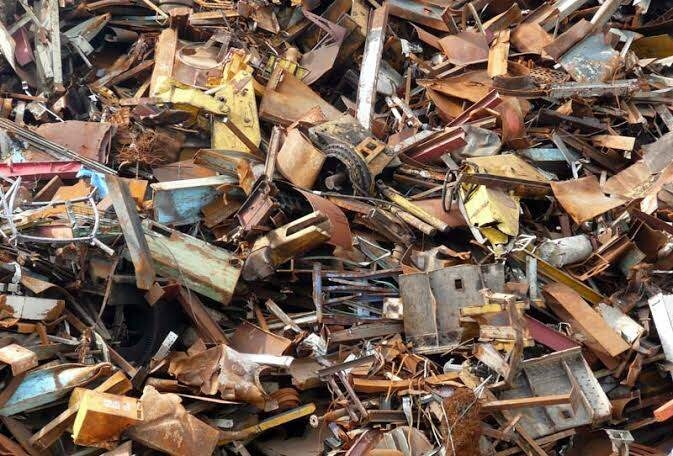metal: (388, 252, 527, 368), (109, 208, 252, 315), (84, 163, 177, 298), (159, 55, 268, 169), (535, 273, 642, 375), (390, 83, 507, 174), (233, 204, 340, 289), (343, 3, 398, 150), (431, 163, 574, 218), (65, 384, 157, 453), (24, 1, 82, 101), (265, 126, 339, 193), (229, 176, 295, 240), (1, 148, 95, 191)
